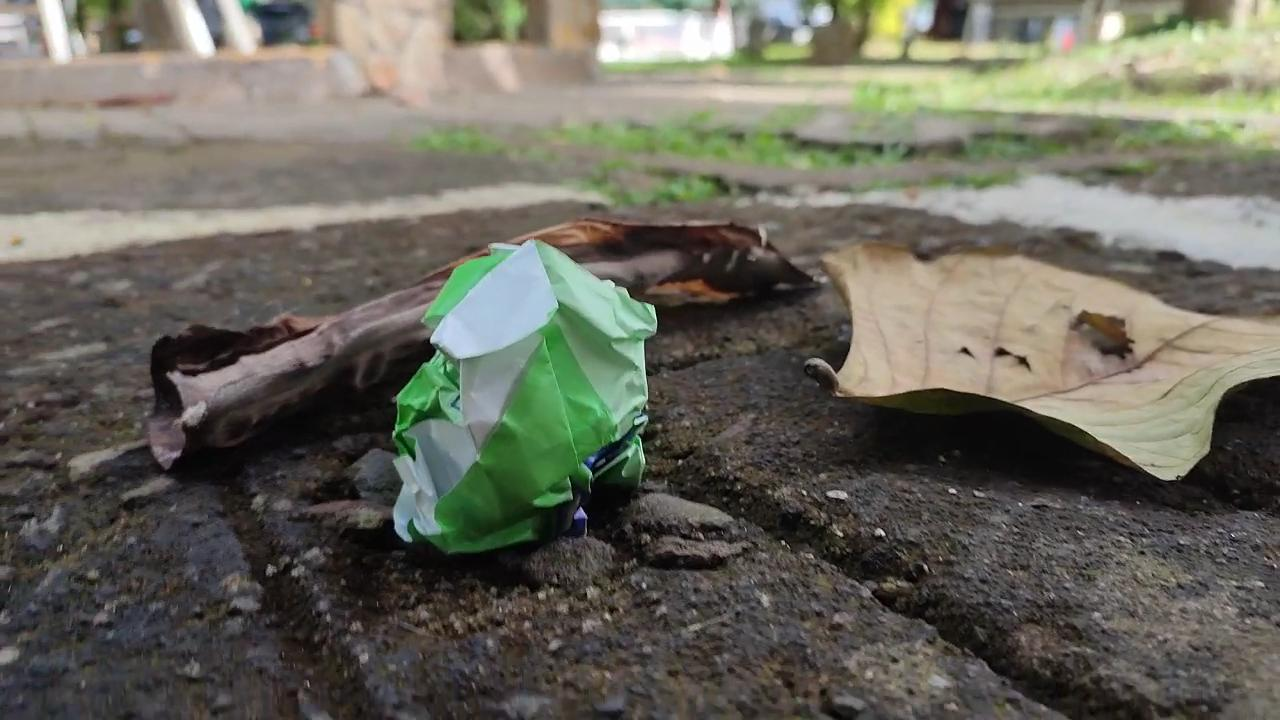Paper: (378, 229, 671, 572)
